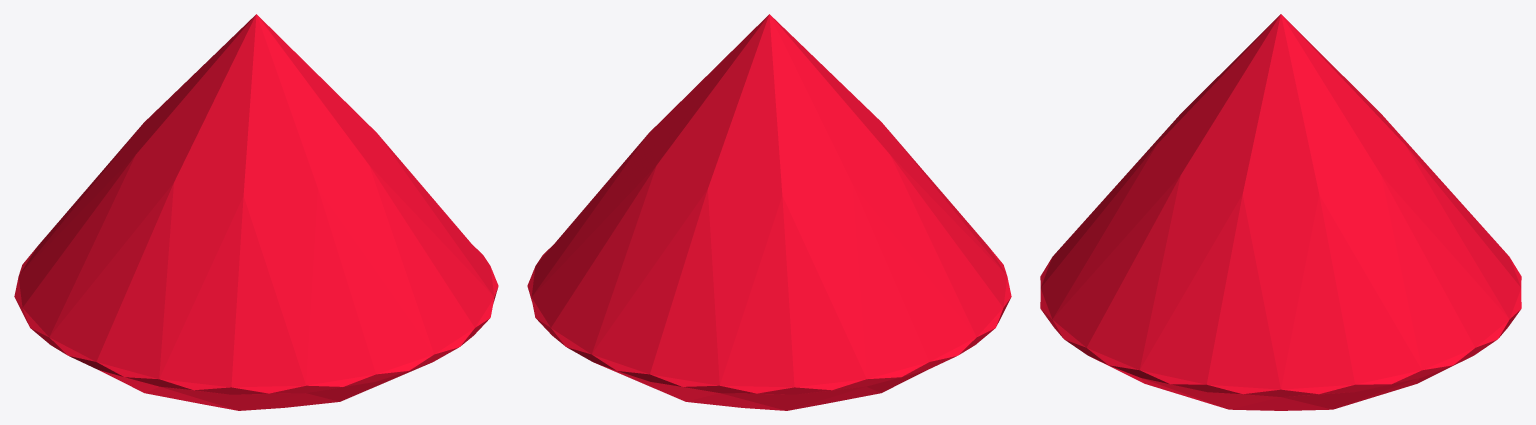
Rendered from daimond.fbx.
The picture shows the model from 3 angles, left to right: view 1: azimuth 30°, elevation 25°; view 2: azimuth 150°, elevation 25°; view 3: azimuth 270°, elevation 25°; orthographic projection.
Visible parts, largest first — view 1: daimond; view 2: daimond; view 3: daimond.
Boxes of the visible parts, x1,y1,x2,y2 form: daimond: (14,14,498,410); daimond: (527,14,1011,410); daimond: (1040,14,1521,410).
Size of the model in its own units: 0.4095 by 0.3202 by 0.4095.
